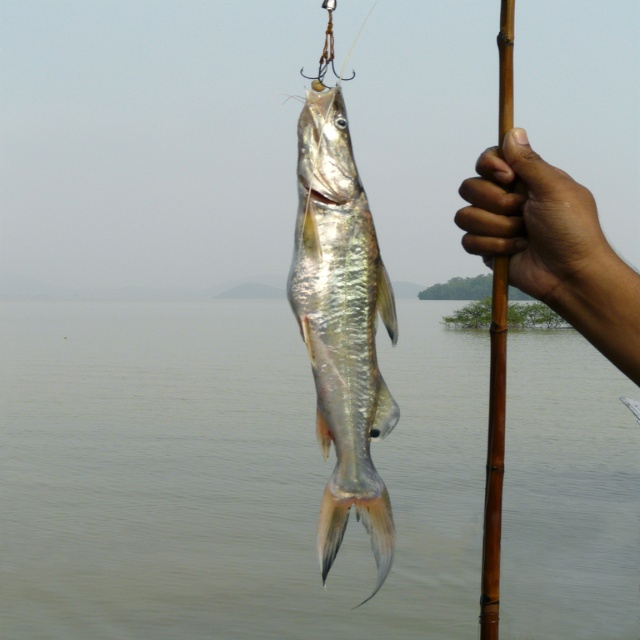Fish: (286, 85, 401, 610)
